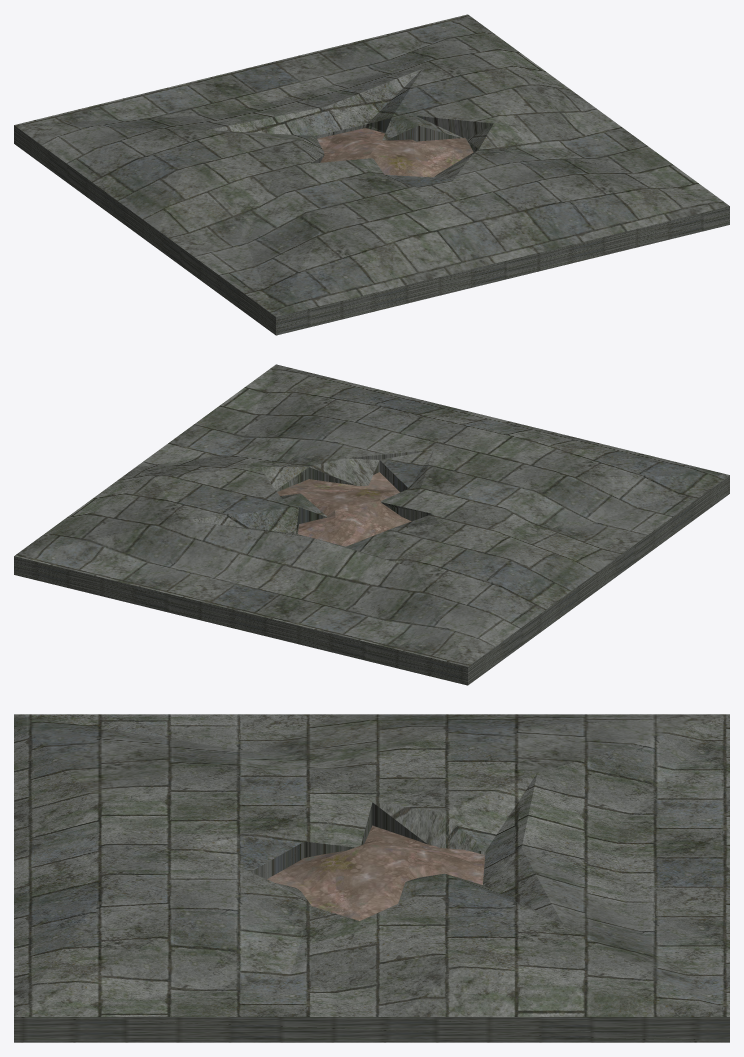
File: crackedGround.fbx
3 renders of one model, top to bottom at view 1: azimuth 30°, elevation 25°; view 2: azimuth 150°, elevation 25°; view 3: azimuth 270°, elevation 25°, orthographic. The views are drawn at different scales.
Visible parts, largest first — view 1: Cube; view 2: Cube; view 3: Cube.
Part boxes in pixels (x1=…): Cube: x1=14, y1=14, x2=729, y2=335; Cube: x1=14, y1=364, x2=729, y2=685; Cube: x1=14, y1=714, x2=729, y2=1042.
Bounding box in the file's own units: 7.48 × 7.48 × 0.5574.
2 materials, 2 textured.
